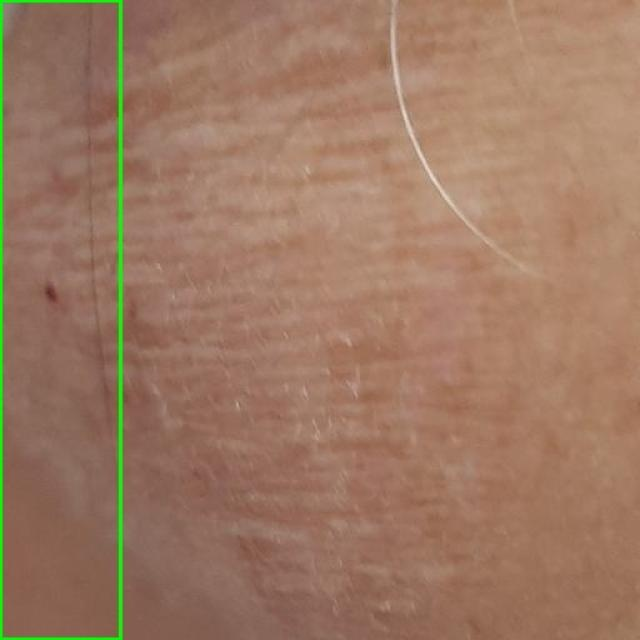Tinea Corporis: (0, 0, 120, 639)
